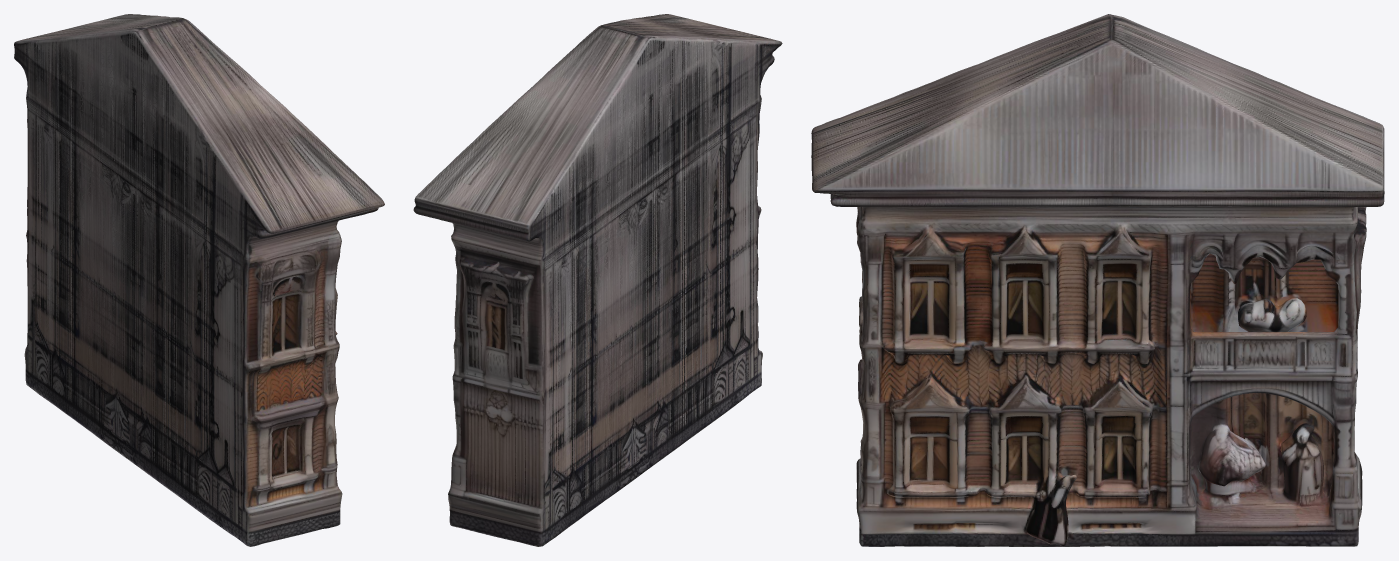
File: House_Kruzh.fbx
The picture shows the model from 3 angles, left to right: view 1: azimuth 30°, elevation 25°; view 2: azimuth 150°, elevation 25°; view 3: azimuth 270°, elevation 25°; orthographic projection. The views are drawn at different scales.
Parts seen in each view (by area): view 1: House_Kruzh; view 2: House_Kruzh; view 3: House_Kruzh.
Boxes of the visible parts, x1,y1,x2,y2 form: House_Kruzh: (14, 14, 384, 546); House_Kruzh: (413, 14, 782, 546); House_Kruzh: (811, 14, 1384, 546).
Bounding box in the file's own units: 34.97 × 122 × 131.
Materials: 1 (1 with a texture image).
